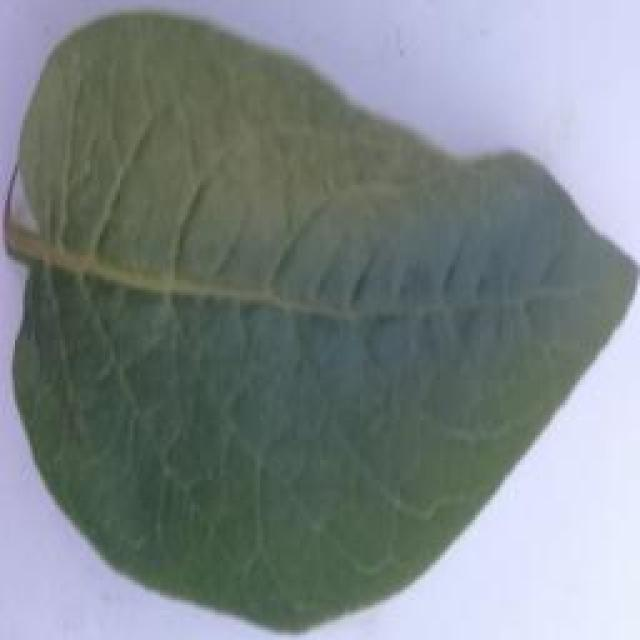Potato_Healthy: (8, 8, 625, 632)
